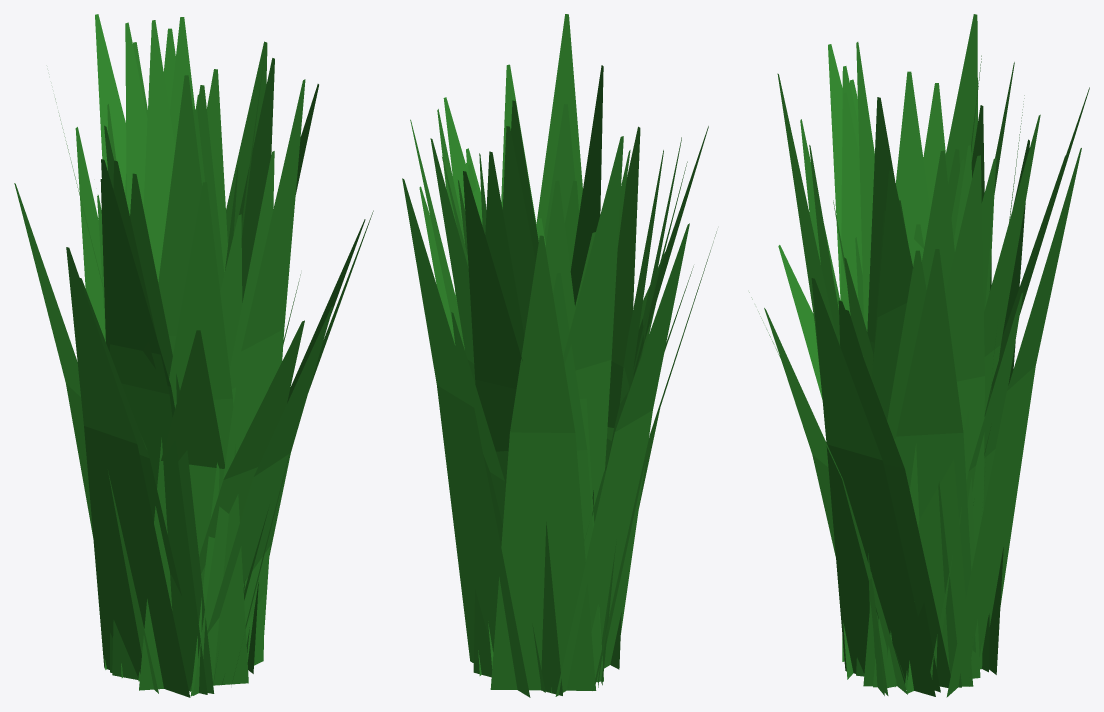
The picture shows the model from 3 angles, left to right: view 1: azimuth 30°, elevation 25°; view 2: azimuth 150°, elevation 25°; view 3: azimuth 270°, elevation 25°; orthographic projection. The views are drawn at different scales.
Parts seen in each view (by area): view 1: IL3DN_Plant_Grass_01_LOD0; view 2: IL3DN_Plant_Grass_01_LOD0; view 3: IL3DN_Plant_Grass_01_LOD0.
Boxes of the visible parts, box(x1,y1,x2,y2) form: IL3DN_Plant_Grass_01_LOD0: box(14, 14, 373, 697); IL3DN_Plant_Grass_01_LOD0: box(402, 14, 716, 697); IL3DN_Plant_Grass_01_LOD0: box(749, 14, 1089, 697).
Size of what is drawn, in the model's own units: 68.99 by 136 by 68.61.
